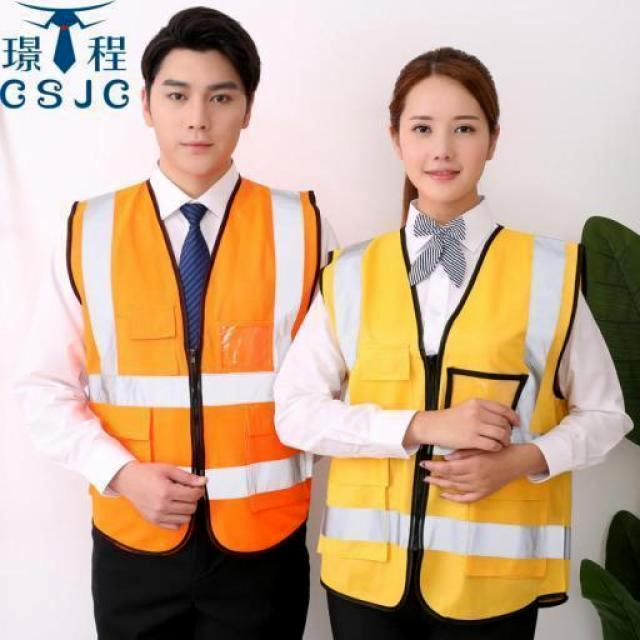no_head_wear: (141, 6, 259, 106), (389, 48, 498, 134)
person: (276, 48, 632, 639), (20, 8, 325, 639)
